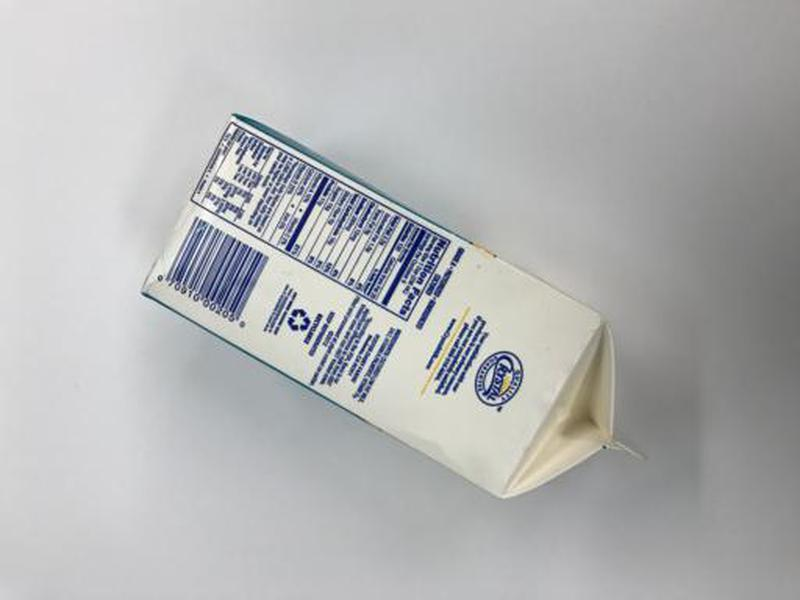cardboard: (138, 108, 647, 500)
